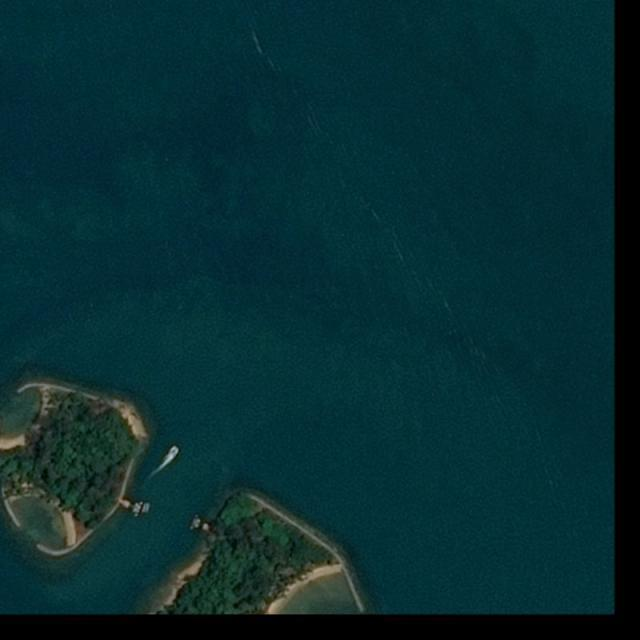ship: (170, 445, 180, 455)
